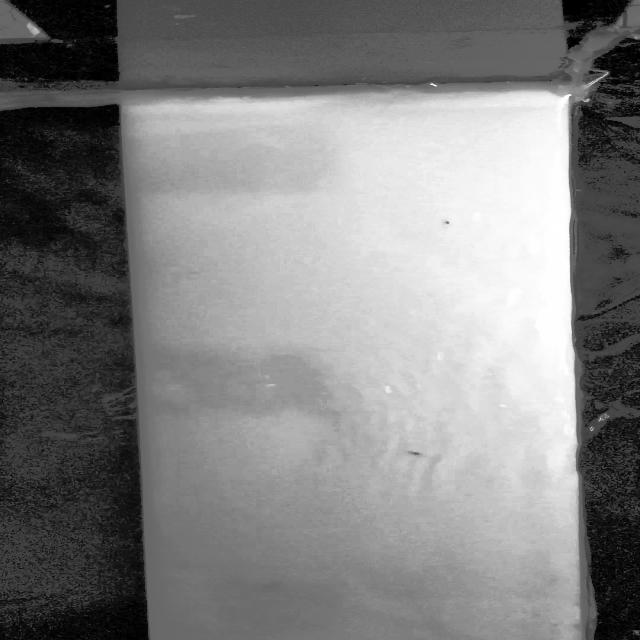shrimp: (388, 447, 439, 462), (429, 214, 460, 233)
